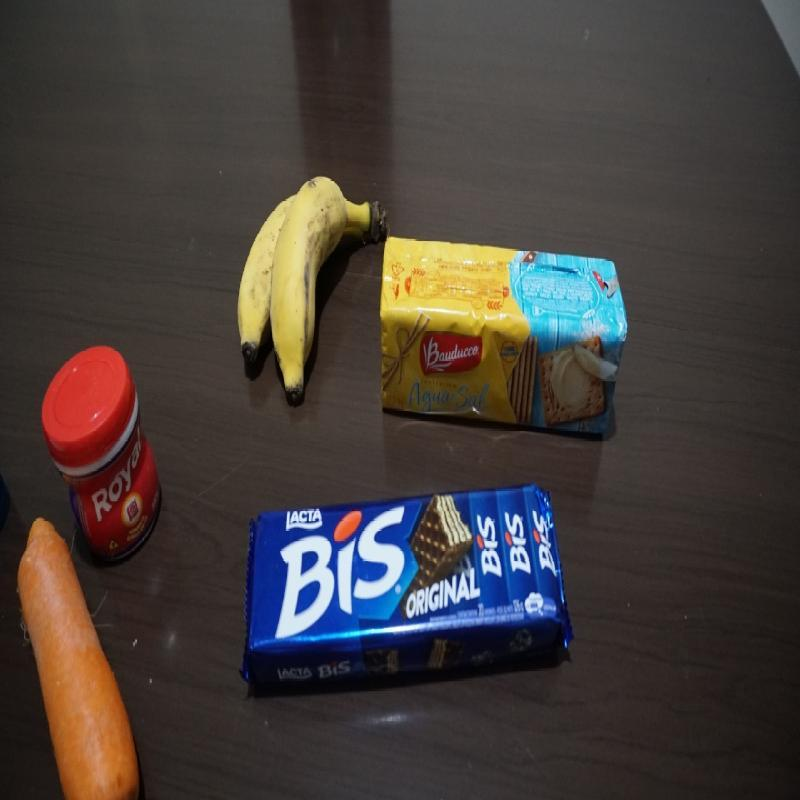Banana: (237, 169, 387, 404)
Carrot: (16, 511, 142, 799)
Cracker: (378, 234, 631, 444)
Yeast: (36, 341, 166, 566)
